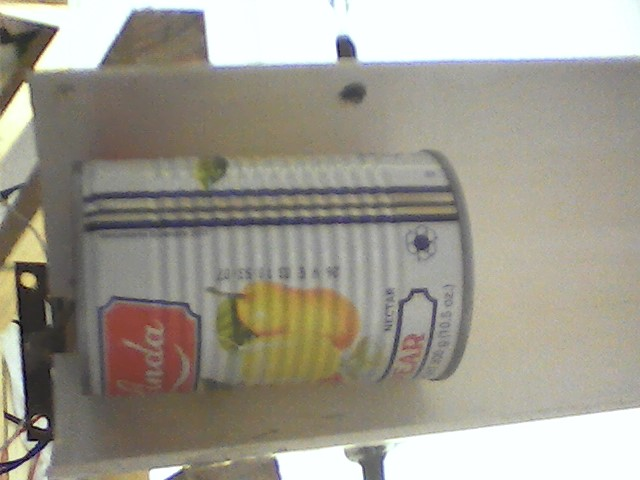lata: (59, 145, 486, 409)
